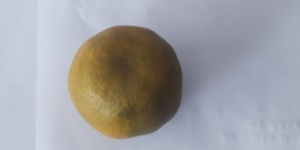BAD: (64, 25, 185, 140)
